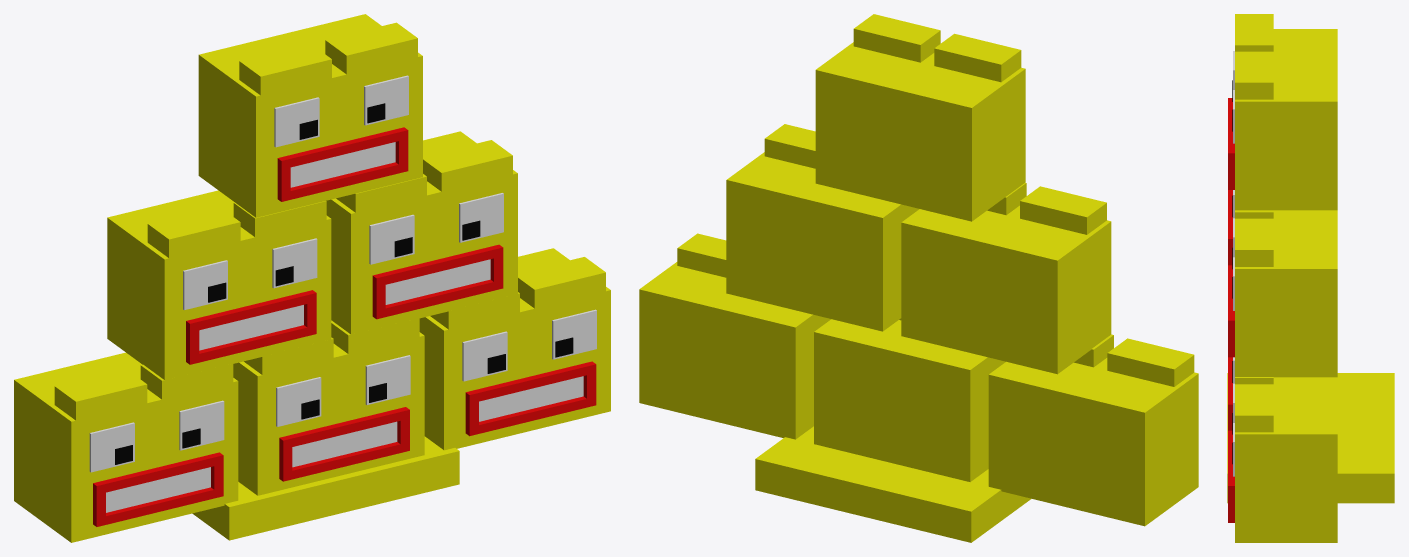
3 renders of one model, left to right at view 1: azimuth 30°, elevation 25°; view 2: azimuth 150°, elevation 25°; view 3: azimuth 270°, elevation 25°, orthographic. The views are drawn at different scales.
Parts seen in each view (by area): view 1: pCube2982, pCube90, pCube2974, pCube2966, pCube2742, pCube2734, pCube85, pCube2741, pCube2965, pCube2981, pCube2733, pCube2973 (+25 smaller); view 2: pCube2982, pCube2974, pCube90, pCube2966, pCube2742, pCube2734, pCube85, pCube110, pCube2987, pCube2979, pCube2988, pCube2972 (+1 smaller); view 3: pCube2982, pCube2966, pCube2742, pCube85, pCube2748, pCube2988, pCube2972, pCube2987, pCube2965, pCube2741, pCube2981, pCube2973 (+3 smaller).
Boxes of the visible parts, bbox=[...] form: pCube2982: bbox=[198, 14, 422, 217]; pCube90: bbox=[14, 352, 238, 542]; pCube2974: bbox=[107, 190, 331, 379]; pCube2966: bbox=[326, 131, 517, 334]; pCube2742: bbox=[419, 248, 610, 450]; pCube2734: bbox=[233, 332, 424, 495]; pCube85: bbox=[192, 436, 459, 540]; pCube2741: bbox=[465, 361, 596, 436]; pCube2965: bbox=[372, 244, 503, 319]; pCube2981: bbox=[277, 127, 408, 201]; pCube2733: bbox=[279, 407, 409, 481]; pCube2973: bbox=[186, 290, 316, 364]; pCube2982: bbox=[815, 42, 1025, 221]; pCube2974: bbox=[901, 205, 1111, 374]; pCube90: bbox=[988, 358, 1198, 526]; pCube2966: bbox=[726, 152, 919, 331]; pCube2742: bbox=[639, 262, 831, 439]; pCube2734: bbox=[814, 319, 1005, 481]; pCube85: bbox=[755, 426, 1031, 542]; pCube110: bbox=[1107, 338, 1194, 386]; pCube2987: bbox=[934, 33, 1021, 82]; pCube2979: bbox=[1020, 186, 1106, 234]; pCube2988: bbox=[853, 14, 940, 62]; pCube2972: bbox=[764, 124, 815, 168]; pCube2982: bbox=[1235, 29, 1337, 210]; pCube2966: bbox=[1235, 210, 1337, 377]; pCube2742: bbox=[1235, 377, 1337, 542]; pCube85: bbox=[1227, 373, 1394, 503]; pCube2748: bbox=[1235, 384, 1273, 432]; pCube2988: bbox=[1235, 51, 1273, 99]; pCube2972: bbox=[1235, 218, 1273, 266]; pCube2987: bbox=[1235, 14, 1273, 51]; pCube2965: bbox=[1228, 265, 1234, 357]; pCube2741: bbox=[1228, 430, 1234, 522]; pCube2981: bbox=[1228, 98, 1234, 189]; pCube2973: bbox=[1228, 190, 1232, 265].
Bounding box in the file's own units: 11.78 × 9.43 × 3.54.
